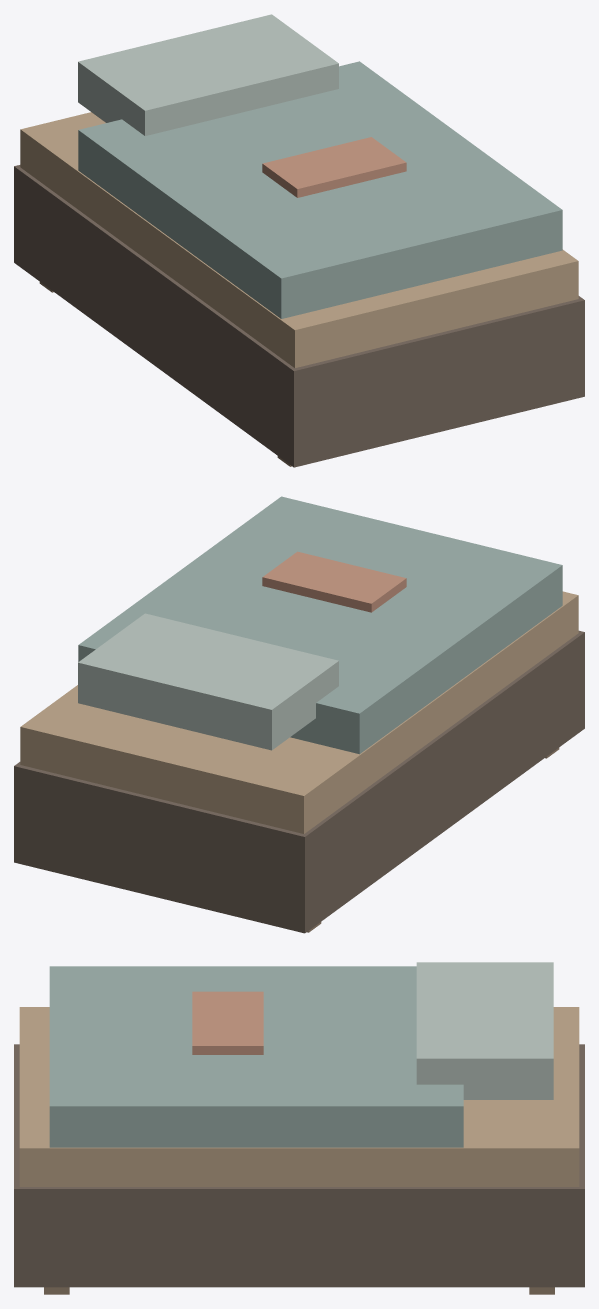
The model's file is bed_single.glb.
3 views of the same model, one above another, from view 1: azimuth 30°, elevation 25°; view 2: azimuth 150°, elevation 25°; view 3: azimuth 270°, elevation 25° (orthographic).
Parts seen in each view (by area): view 1: fabric, wood_dark, wood_light, fabric_light, rust; view 2: wood_dark, fabric, wood_light, fabric_light, rust; view 3: fabric, wood_dark, wood_light, fabric_light, rust.
Boxes of the visible parts, x1=… form: fabric: x1=78, y1=61, x2=562, y2=318; wood_dark: x1=14, y1=165, x2=584, y2=467; wood_light: x1=20, y1=112, x2=578, y2=367; fabric_light: x1=78, y1=14, x2=338, y2=135; rust: x1=262, y1=137, x2=406, y2=197; wood_dark: x1=14, y1=630, x2=584, y2=933; fabric: x1=78, y1=496, x2=562, y2=754; wood_light: x1=20, y1=591, x2=578, y2=833; fabric_light: x1=78, y1=613, x2=338, y2=750; rust: x1=262, y1=551, x2=406, y2=612; fabric: x1=49, y1=966, x2=463, y2=1147; wood_dark: x1=14, y1=1044, x2=584, y2=1287; wood_light: x1=19, y1=1007, x2=579, y2=1186; fabric_light: x1=416, y1=962, x2=553, y2=1099; rust: x1=192, y1=991, x2=263, y2=1054.
Bounding box in the file's own units: 1.2 × 0.84 × 2.
